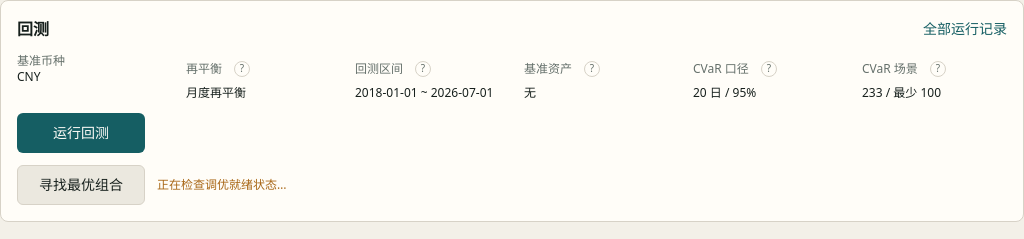
Scenario: BacktestPanel › notes reuse when an identical successful run exists
Click the button with test id "run-backtest": click(81, 133) [17,113,145,153]
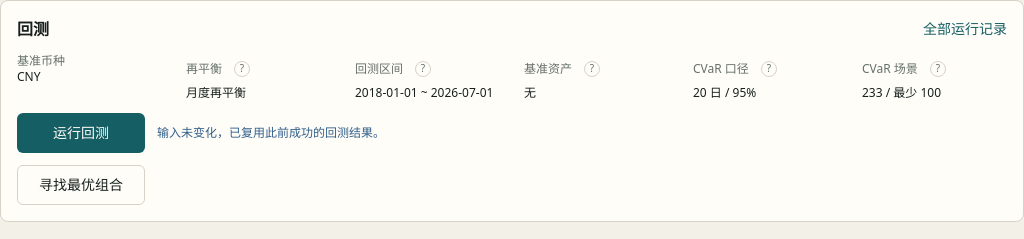
Expected: the text "输入未变化，已复用此前成功的回测结果。" is shown, [157,125,385,141]
